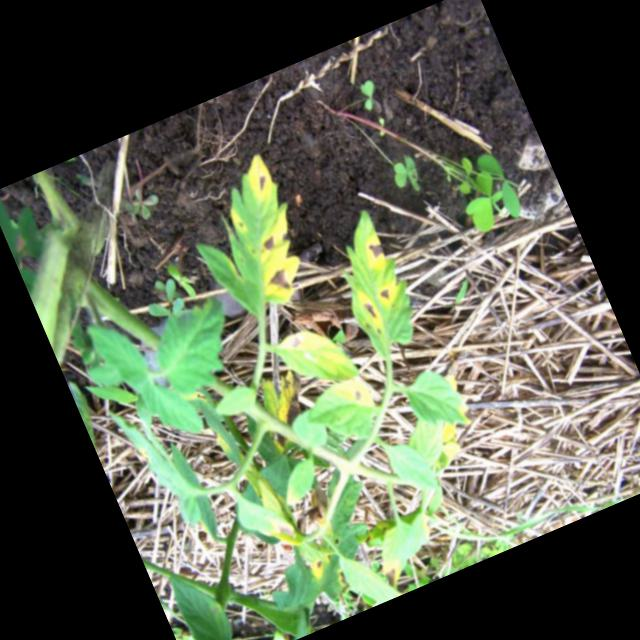Early_blight: (253, 371, 322, 448), (240, 152, 278, 204), (256, 263, 301, 303), (274, 326, 319, 360), (353, 287, 384, 333), (341, 373, 375, 413), (268, 512, 301, 547), (371, 280, 404, 313), (362, 236, 390, 272), (257, 232, 283, 258), (381, 564, 403, 590)
